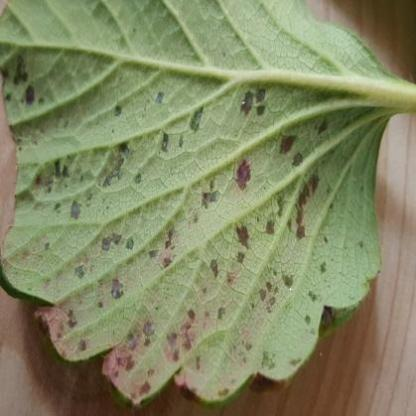Strawberry_Angular_LeafSpot: (0, 51, 381, 412)
